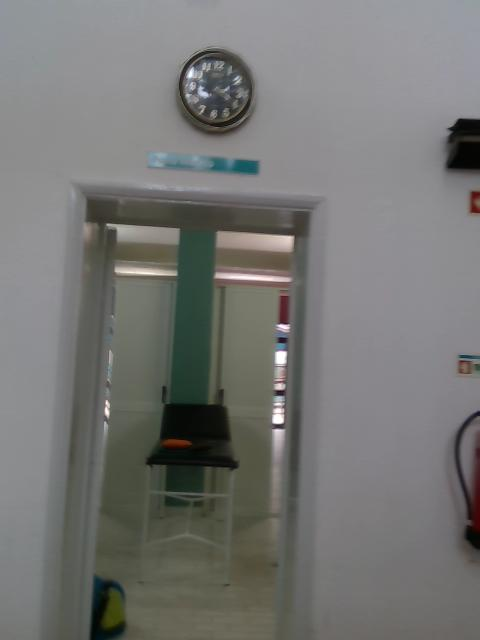open_door: (47, 179, 329, 638)
